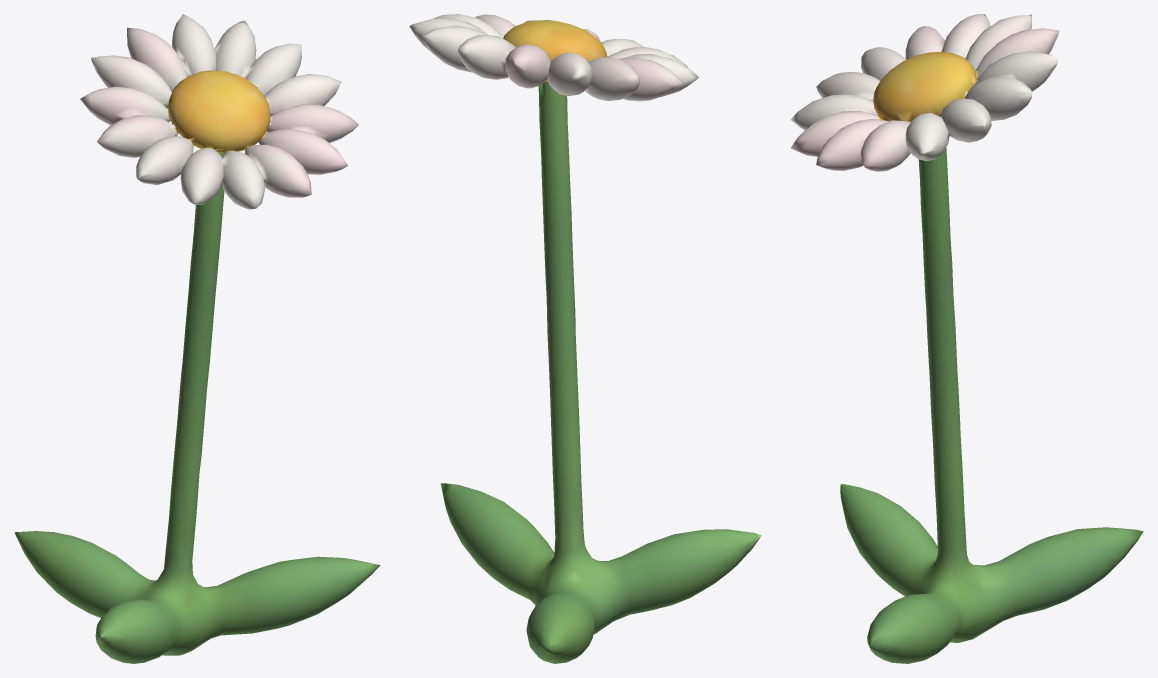
The model's file is flower0.glb.
The picture shows the model from 3 angles, left to right: view 1: azimuth 30°, elevation 25°; view 2: azimuth 150°, elevation 25°; view 3: azimuth 270°, elevation 25°; orthographic projection. The views are drawn at different scales.
Parts seen in each view (by area): view 1: body; view 2: body; view 3: body.
Part boxes in pixels (left/top/right/bottom): body: left=14, top=14, right=380, bottom=663; body: left=409, top=14, right=761, bottom=663; body: left=790, top=14, right=1143, bottom=663.
Size of the model in its own units: 0.2777 by 0.5311 by 0.2771.
